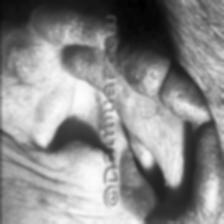Toxin: (124, 48, 202, 126), (0, 25, 52, 93)
